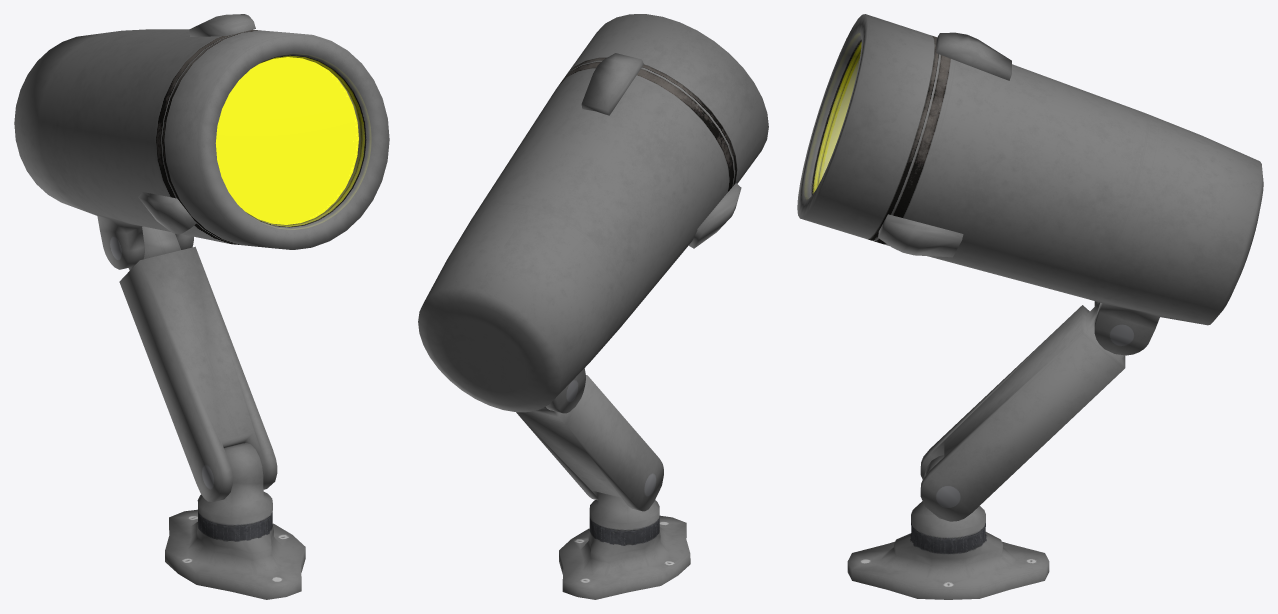
The picture shows the model from 3 angles, left to right: view 1: azimuth 30°, elevation 25°; view 2: azimuth 150°, elevation 25°; view 3: azimuth 270°, elevation 25°; orthographic projection. The views are drawn at different scales.
Visible parts, largest first — view 1: Spotlight; view 2: Spotlight; view 3: Spotlight.
Boxes of the visible parts, left/top/right/bottom form: Spotlight: left=14, top=14, right=389, bottom=599; Spotlight: left=418, top=14, right=768, bottom=599; Spotlight: left=797, top=14, right=1263, bottom=599.
Size of the model in its own units: 0.413 by 1.09 by 0.84.
Materials: 1 (1 with a texture image).
